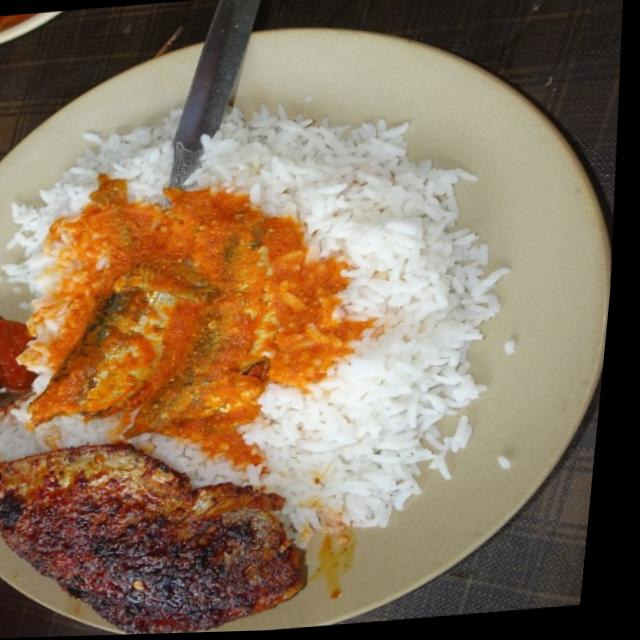FISH CURRY: (28, 178, 368, 469)
FISH FRY: (0, 444, 303, 634)
RICE: (128, 106, 507, 548), (1, 110, 177, 297)
